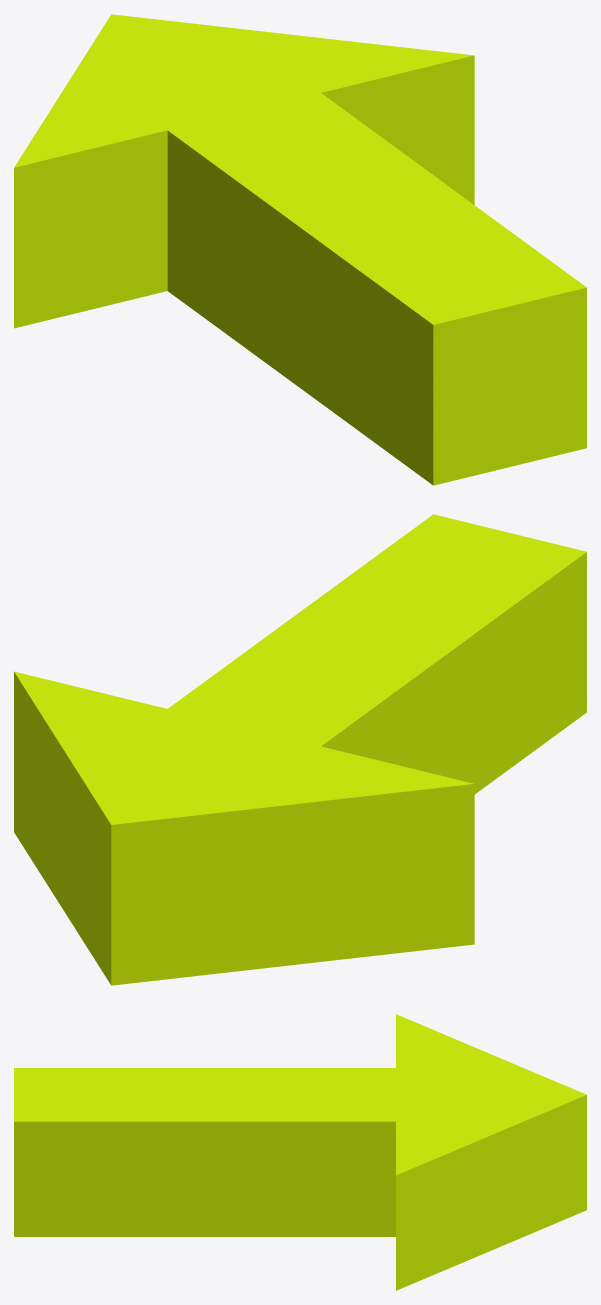
The model's file is seta.fbx.
3 views of the same model, one above another, from view 1: azimuth 30°, elevation 25°; view 2: azimuth 150°, elevation 25°; view 3: azimuth 270°, elevation 25° (orthographic). The views are drawn at different scales.
Visible parts, largest first — view 1: Cube.001; view 2: Cube.001; view 3: Cube.001.
Part boxes in pixels (left/top/right/bottom): Cube.001: left=14, top=14, right=586, bottom=485; Cube.001: left=14, top=514, right=586, bottom=985; Cube.001: left=14, top=1014, right=586, bottom=1290.
Size of the model in its own units: 600 by 200 by 900.
